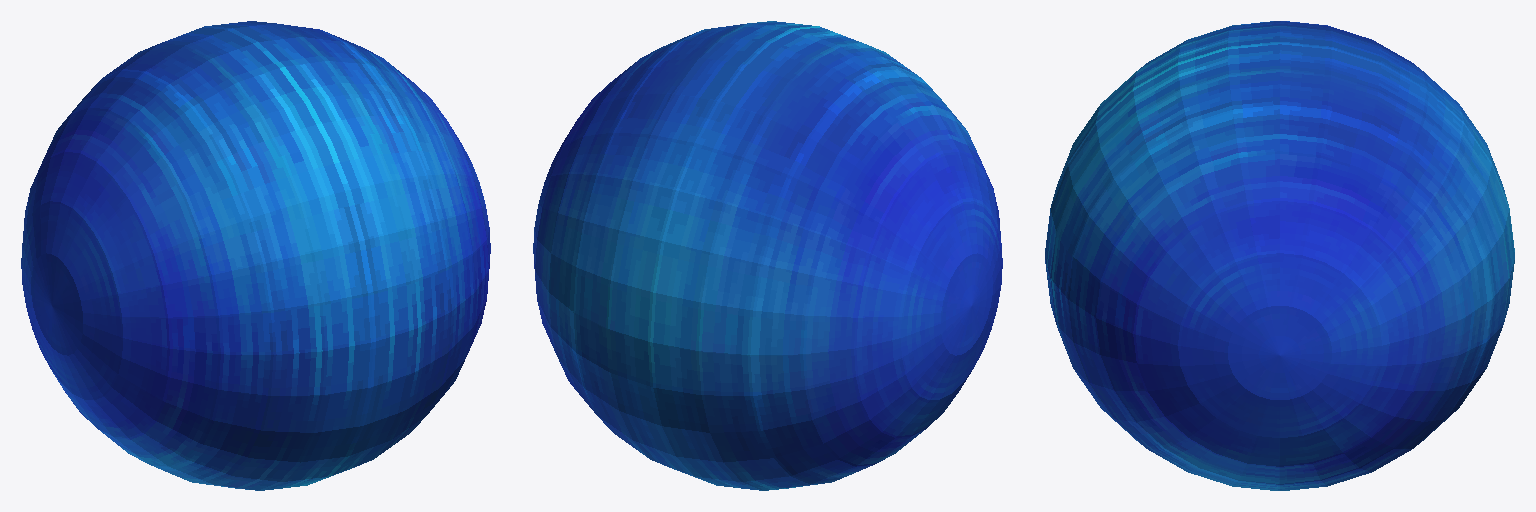
3 views of the same model, side by side, from view 1: azimuth 30°, elevation 25°; view 2: azimuth 150°, elevation 25°; view 3: azimuth 270°, elevation 25° (orthographic).
Parts seen in each view (by area): view 1: polygon0; view 2: polygon0; view 3: polygon0.
Boxes of the visible parts, x1=… form: polygon0: x1=21, y1=21, x2=490, y2=490; polygon0: x1=533, y1=21, x2=1002, y2=490; polygon0: x1=1045, y1=21, x2=1514, y2=490.
Bounding box in the file's own units: 6.55 × 6.55 × 6.55.
1 materials, 1 textured.